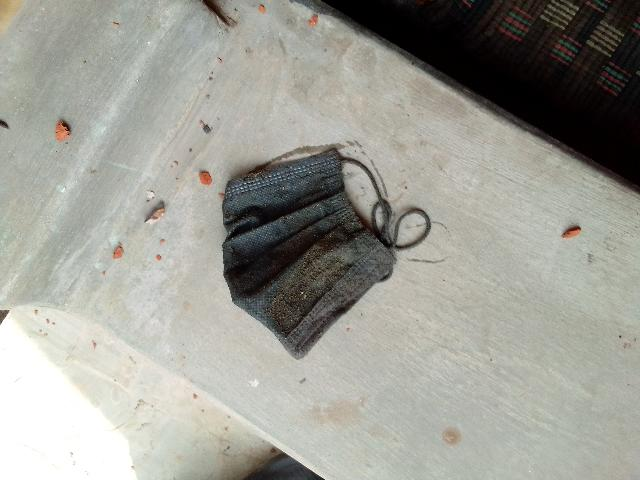mask: (205, 136, 379, 346)
